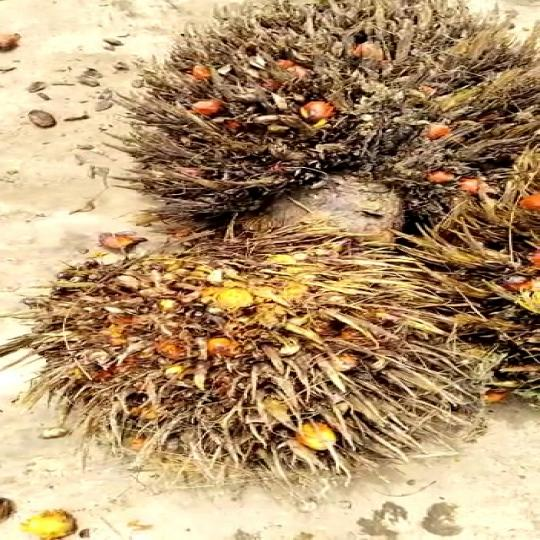terlalu masak: (25, 235, 506, 493), (112, 0, 540, 237)
